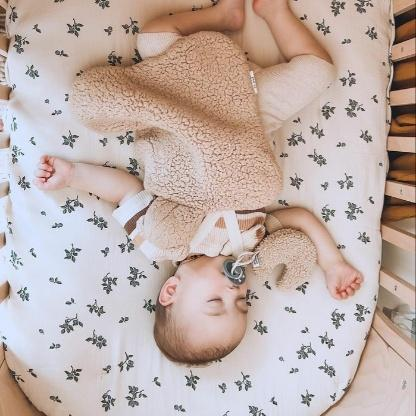baby: (35, 1, 365, 367)
